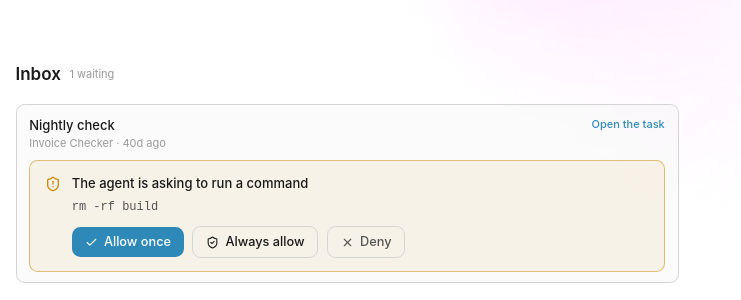
Test: InboxView › sends the reply the user pressed and settles the row
Click the button "Always allow": {"x": 255, "y": 242} [192, 226, 318, 258]
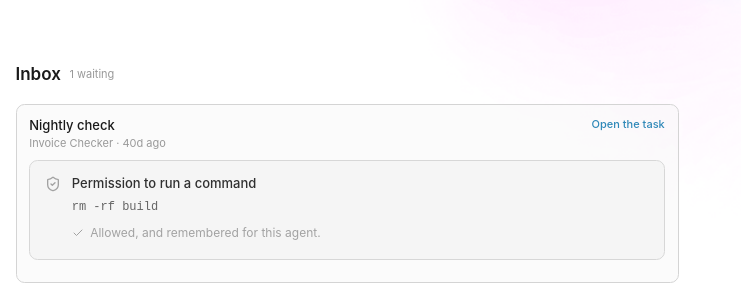
Check: the text "Allowed, and remembered for this agent." is shown, box [72, 224, 321, 242]
